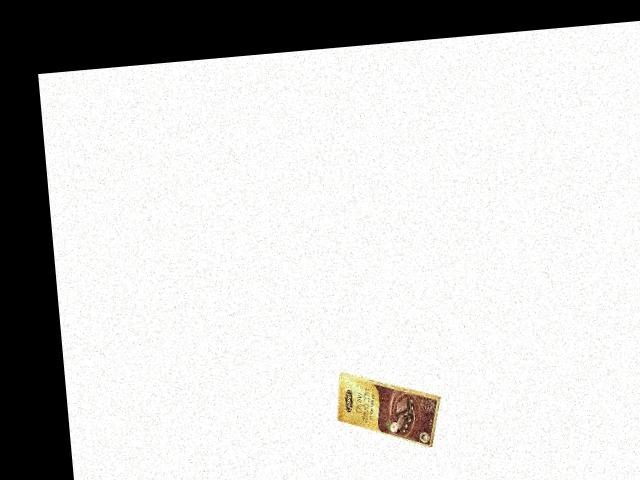chocolate: (332, 359, 454, 455)
